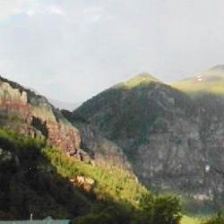neutral: (1, 26, 224, 223)
